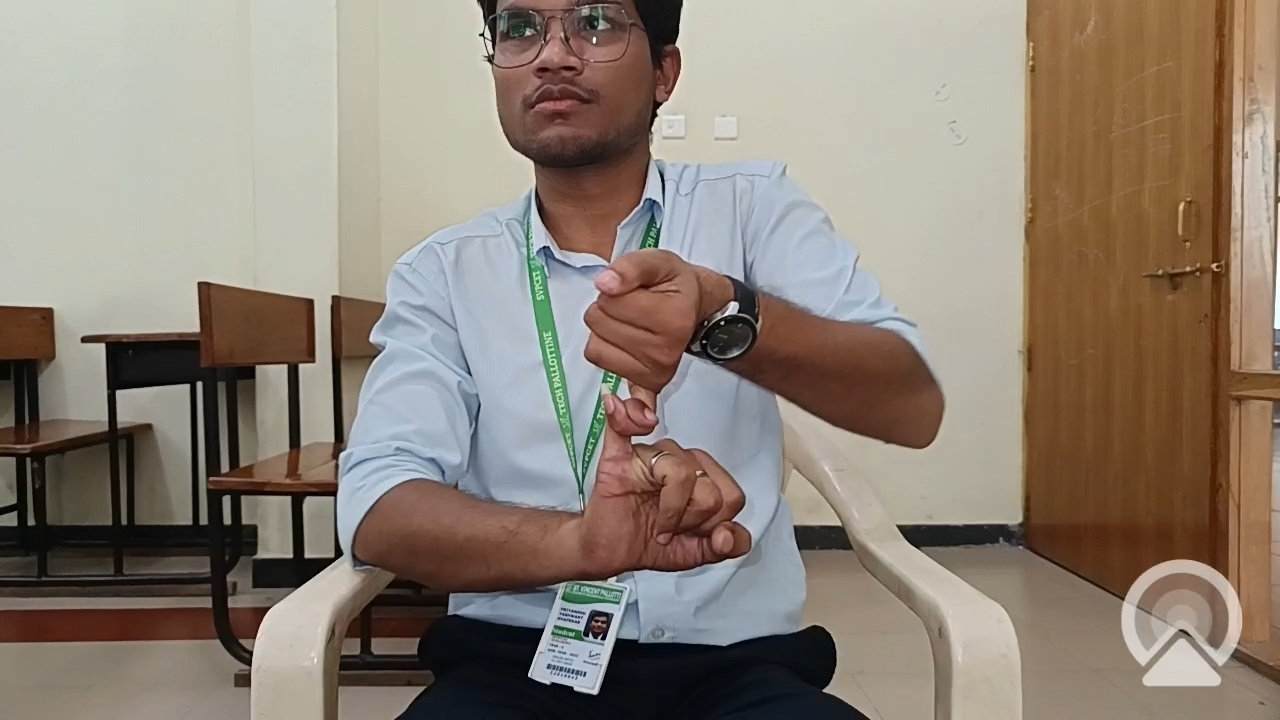S: (508, 187, 772, 603)
